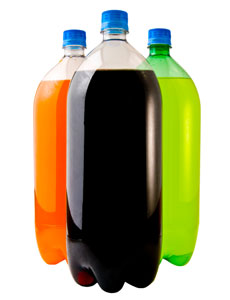Rec_Plastic: (64, 10, 161, 293), (136, 22, 206, 271), (31, 27, 90, 272)
